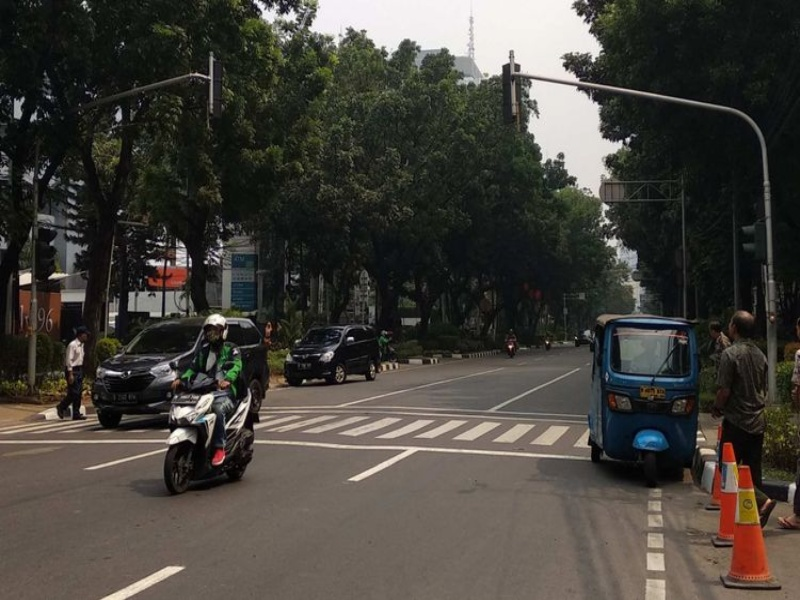zebra cross: (257, 412, 587, 449)
